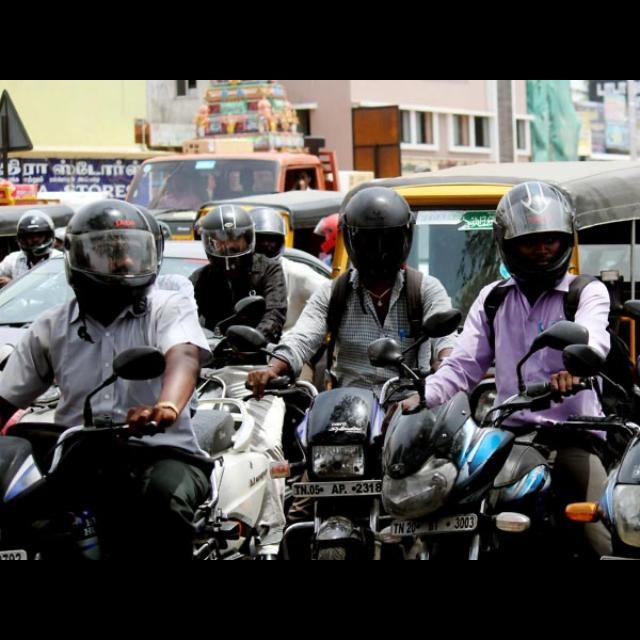With Helmet: (481, 172, 591, 300), (54, 194, 168, 314), (328, 178, 428, 294), (192, 198, 262, 278)
